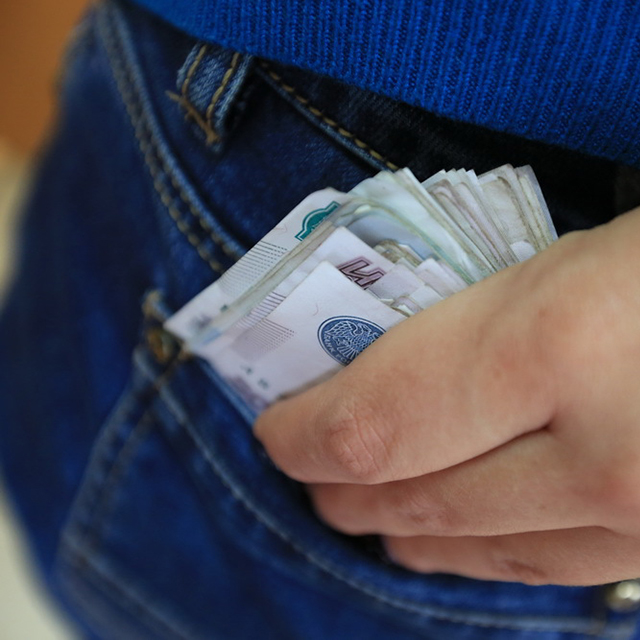banknotes: (162, 156, 570, 408)
